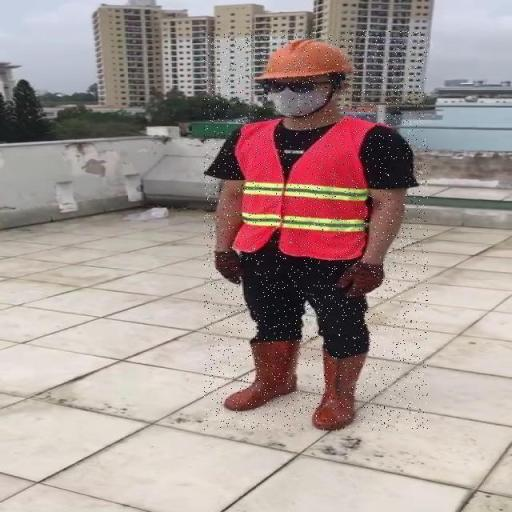Boots: (226, 340, 302, 411), (314, 352, 366, 430)
Helmet: (252, 36, 354, 82)
Person: (204, 30, 428, 431)
